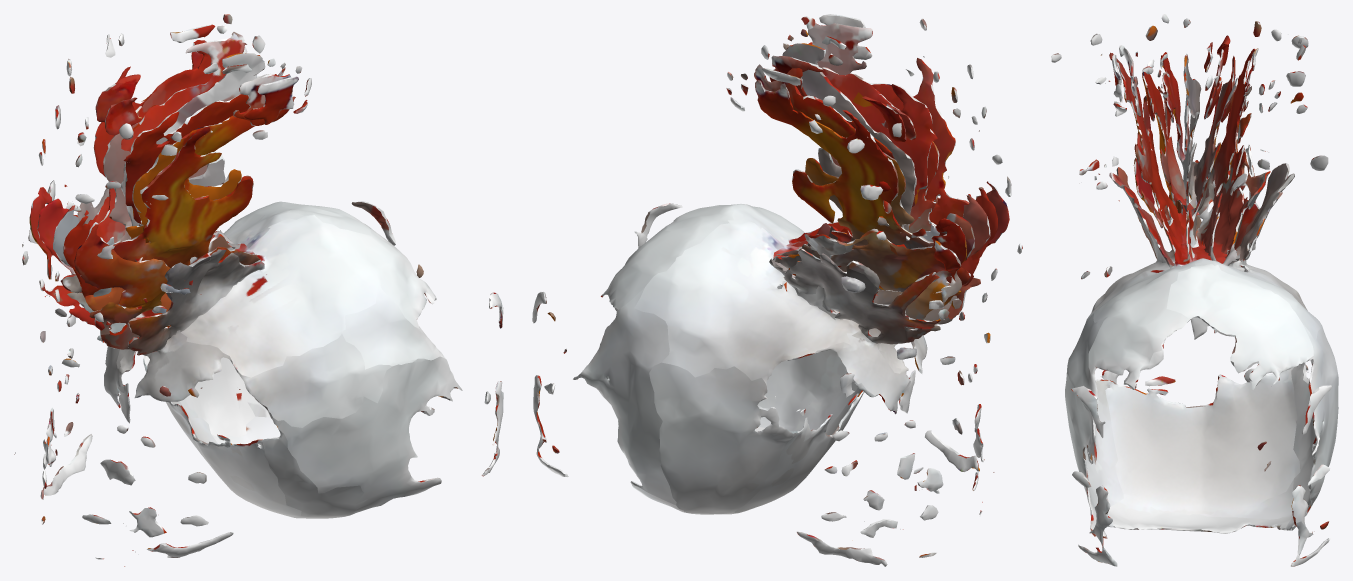
File: starter-fire-l.glb
3 views of the same model, side by side, from view 1: azimuth 30°, elevation 25°; view 2: azimuth 150°, elevation 25°; view 3: azimuth 270°, elevation 25° (orthographic). The views are drawn at different scales.
Visible parts, largest first — view 1: tmp_d57ahue.ply; view 2: tmp_d57ahue.ply; view 3: tmp_d57ahue.ply.
Part boxes in pixels (bbox=[...]): tmp_d57ahue.ply: bbox=[14, 14, 503, 566]; tmp_d57ahue.ply: bbox=[532, 14, 1022, 566]; tmp_d57ahue.ply: bbox=[1051, 14, 1338, 566].
Bounding box in the file's own units: 0.8982 × 0.9871 × 0.582.
Materials: 1 (1 with a texture image).
